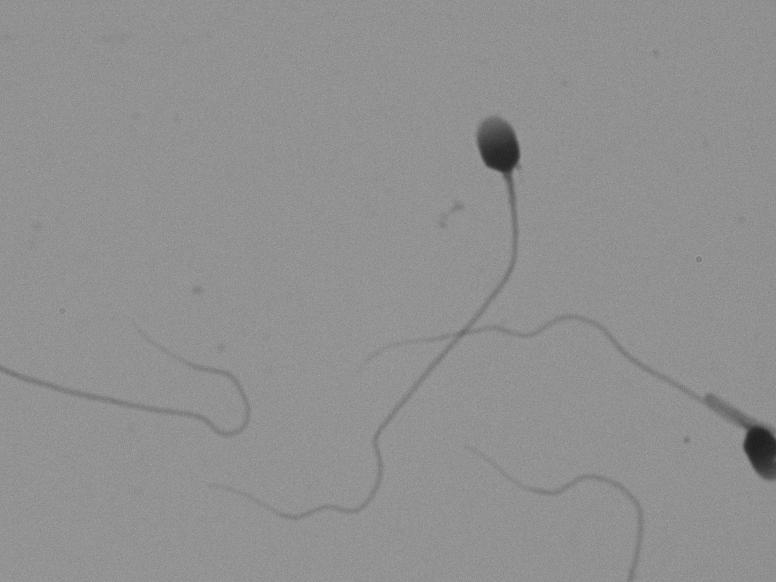Normal: (190, 78, 549, 545)
